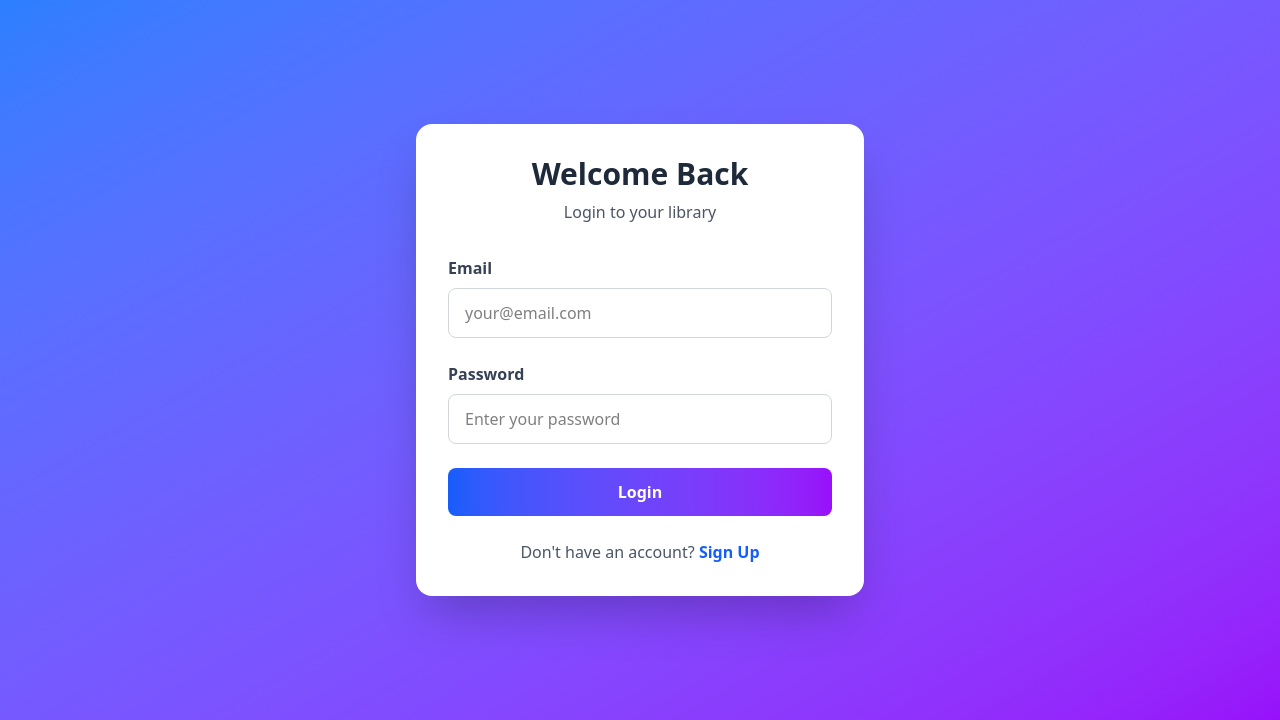
Test case: Login Component › shows error message on login failure
Type "wrong@example.com" into the field with placeholder "your@email.com" at (640, 313), box [448, 288, 832, 338]
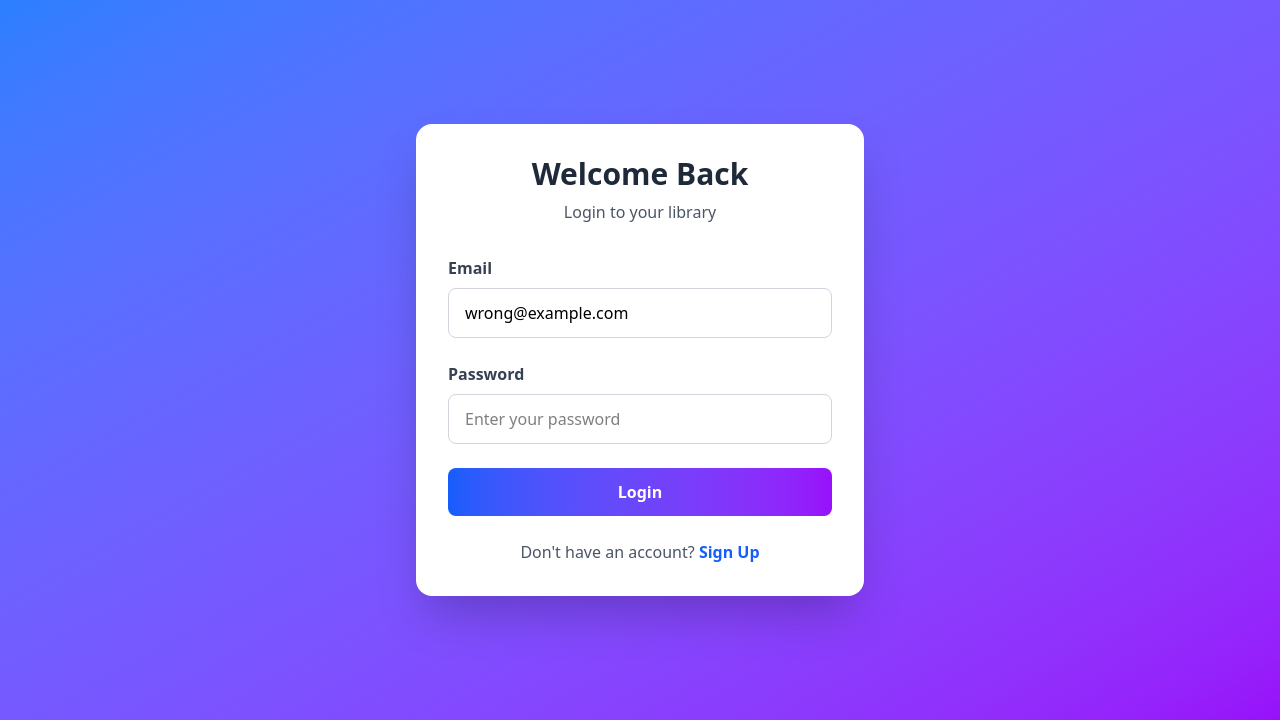
Type "wrongpass" into the password field with placeholder "Enter your password" at (640, 419), box [448, 394, 832, 444]
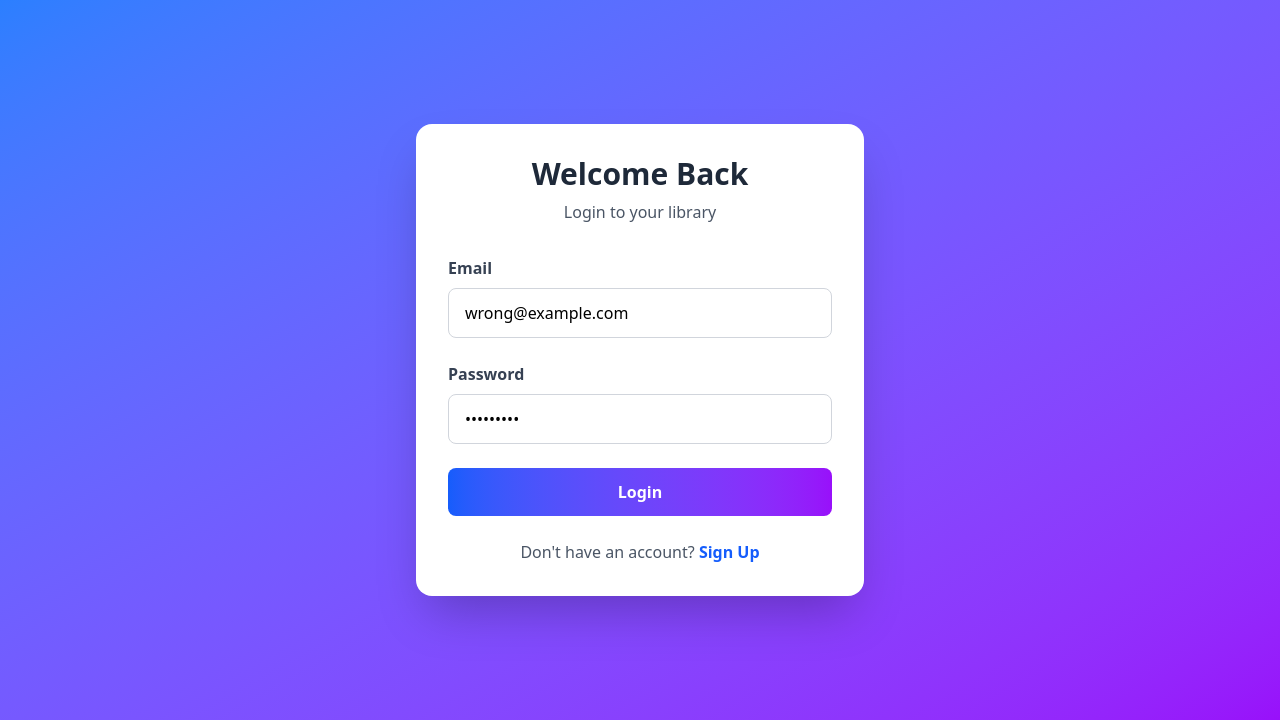
Click the button "Login" at (640, 492), box [448, 468, 832, 516]
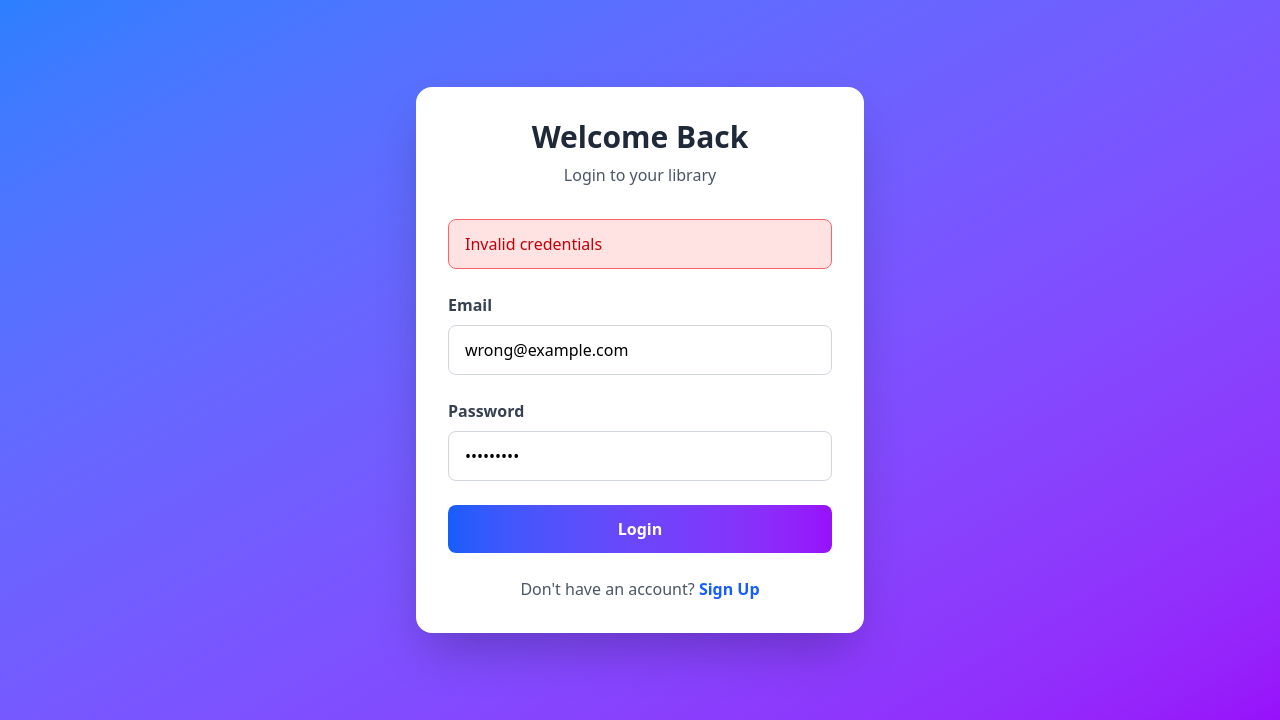
Now the text "Invalid credentials" is shown, box [448, 219, 832, 269]
